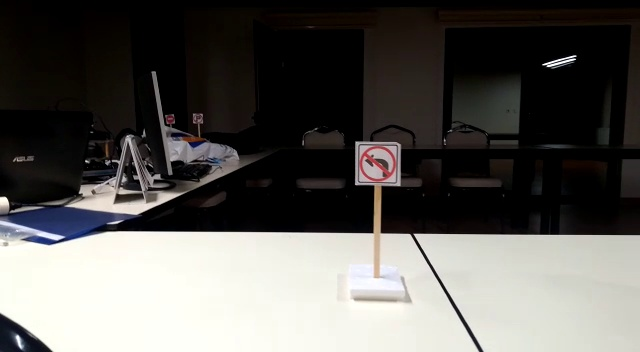sola_donulmez: (357, 144, 401, 183)
